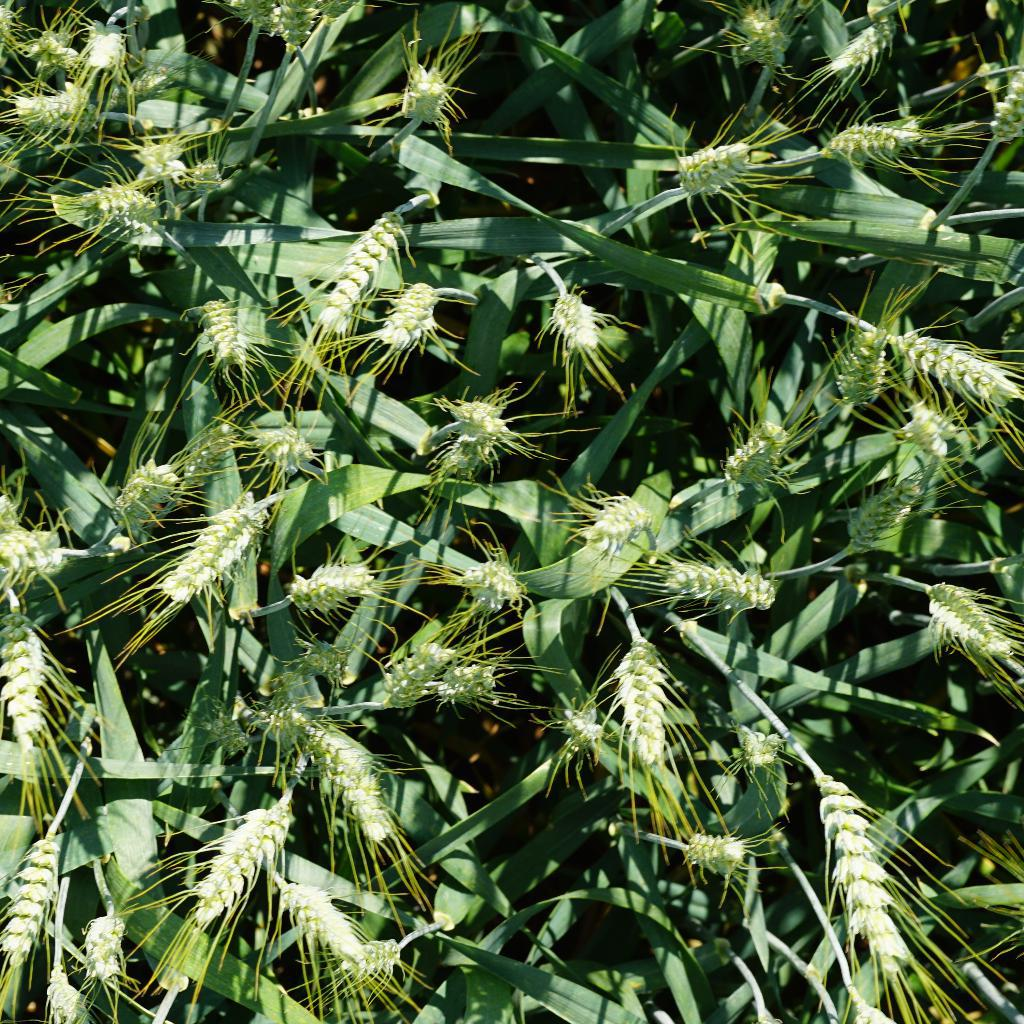0-0: (814, 772, 914, 975), (163, 804, 292, 930), (145, 499, 271, 604), (316, 195, 404, 344), (294, 721, 400, 844), (896, 311, 1024, 408), (610, 641, 681, 773), (0, 605, 58, 763), (413, 388, 534, 462), (843, 459, 934, 556), (277, 873, 366, 971), (934, 571, 1024, 662), (2, 832, 60, 971), (669, 552, 777, 620), (359, 641, 460, 713), (195, 287, 268, 377), (676, 134, 763, 201), (73, 178, 176, 234), (294, 557, 393, 615), (376, 281, 445, 363), (11, 74, 108, 131), (727, 417, 796, 494), (176, 417, 239, 501), (829, 115, 940, 161), (101, 459, 182, 522), (978, 55, 1024, 161), (828, 14, 904, 78), (552, 284, 617, 357), (729, 0, 792, 73), (395, 51, 458, 122), (75, 911, 131, 989), (466, 549, 533, 613), (245, 689, 313, 752), (576, 496, 650, 553), (683, 825, 754, 884), (844, 326, 892, 411), (901, 399, 963, 463), (0, 526, 67, 584), (262, 3, 331, 58), (254, 428, 325, 481), (78, 17, 134, 82), (104, 63, 180, 110), (341, 931, 402, 988), (291, 637, 355, 689), (139, 131, 189, 197), (443, 657, 507, 703), (728, 720, 778, 772), (200, 710, 249, 760), (555, 707, 604, 750), (36, 15, 77, 66), (186, 155, 228, 196)
